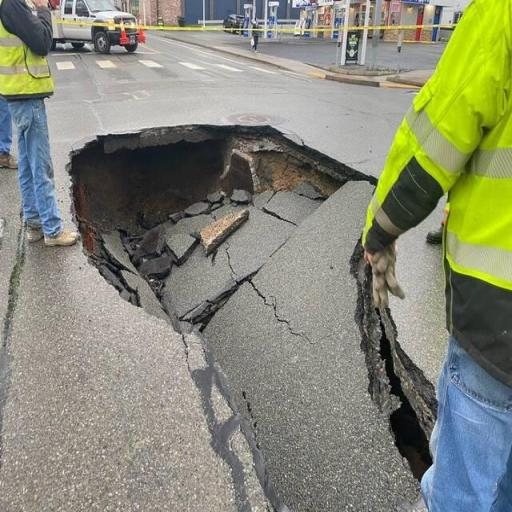Concentric_Crack: (68, 126, 376, 334), (350, 240, 436, 477)
